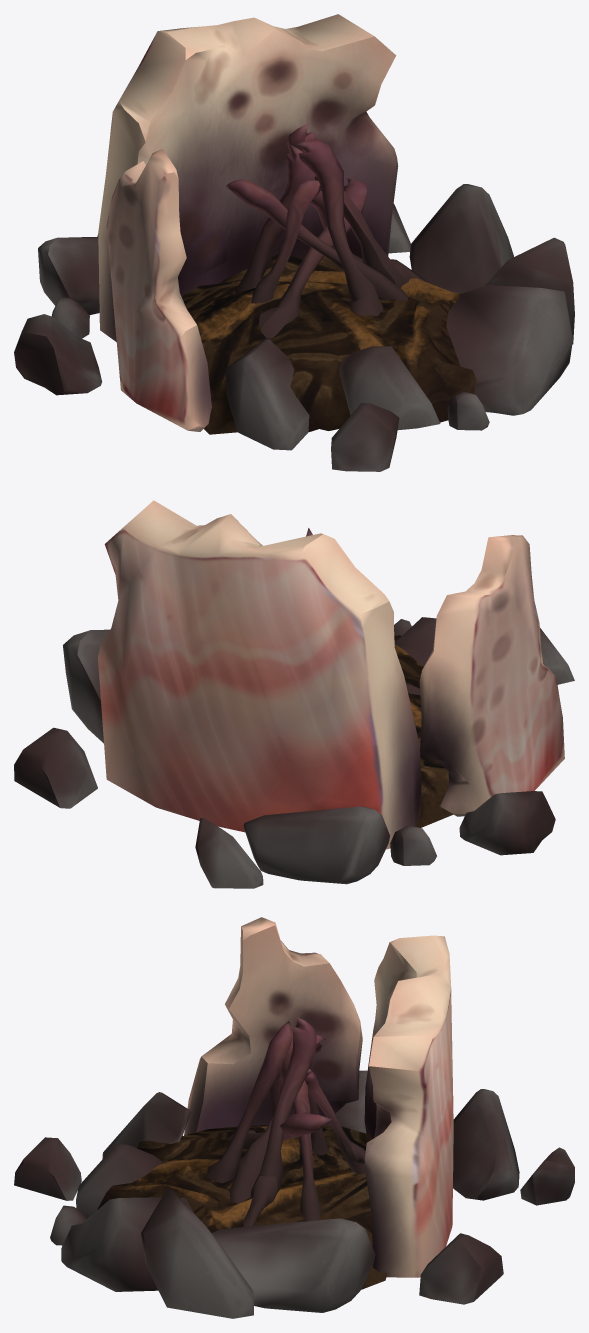
File: sh_fireplace_01.fbx
3 renders of one model, top to bottom at view 1: azimuth 30°, elevation 25°; view 2: azimuth 150°, elevation 25°; view 3: azimuth 270°, elevation 25°, orthographic. The views are drawn at different scales.
Parts seen in each view (by area): view 1: sh_fireplace_01_LOD0; view 2: sh_fireplace_01_LOD0; view 3: sh_fireplace_01_LOD0.
Boxes of the visible parts, bbox=[...] form: sh_fireplace_01_LOD0: bbox=[14, 14, 574, 471]; sh_fireplace_01_LOD0: bbox=[14, 500, 574, 888]; sh_fireplace_01_LOD0: bbox=[14, 917, 574, 1318].
Size of what is drawn, in the model's own units: 1.12 by 0.646 by 1.26.
